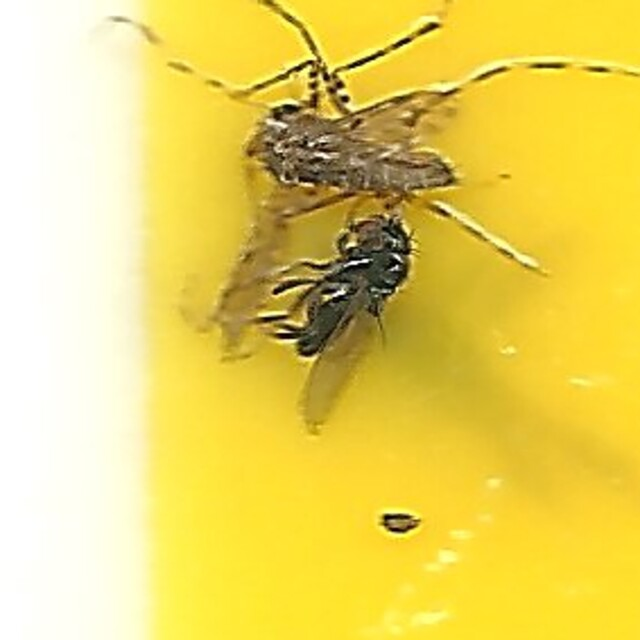Brachycera: (226, 201, 414, 439)
